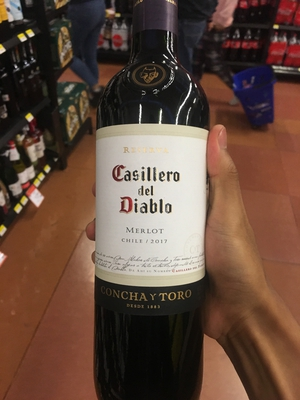casillero del diablo merlot: (80, 11, 219, 390)
